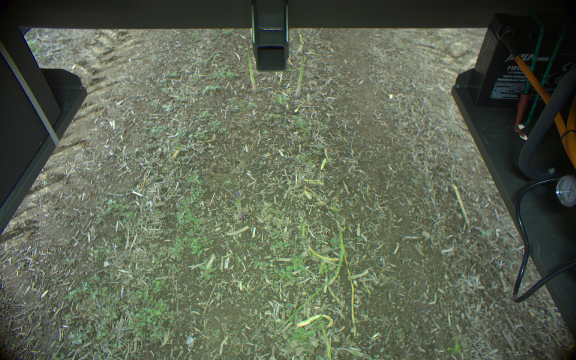aspa: (290, 42, 309, 99), (244, 40, 257, 95), (230, 189, 247, 224)
